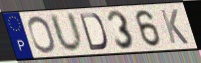3: (107, 10, 136, 52)
6: (134, 8, 162, 48)
D: (78, 12, 109, 52)
K: (159, 9, 191, 46)
O: (26, 15, 57, 55)
U: (48, 11, 85, 54)
